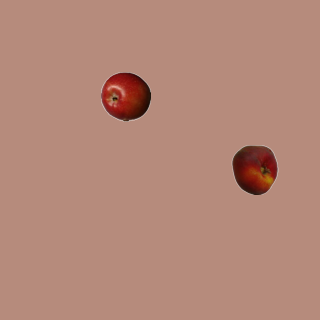Apple Braeburn: (100, 71, 150, 121)
Nectarine Flat: (229, 144, 279, 194)
